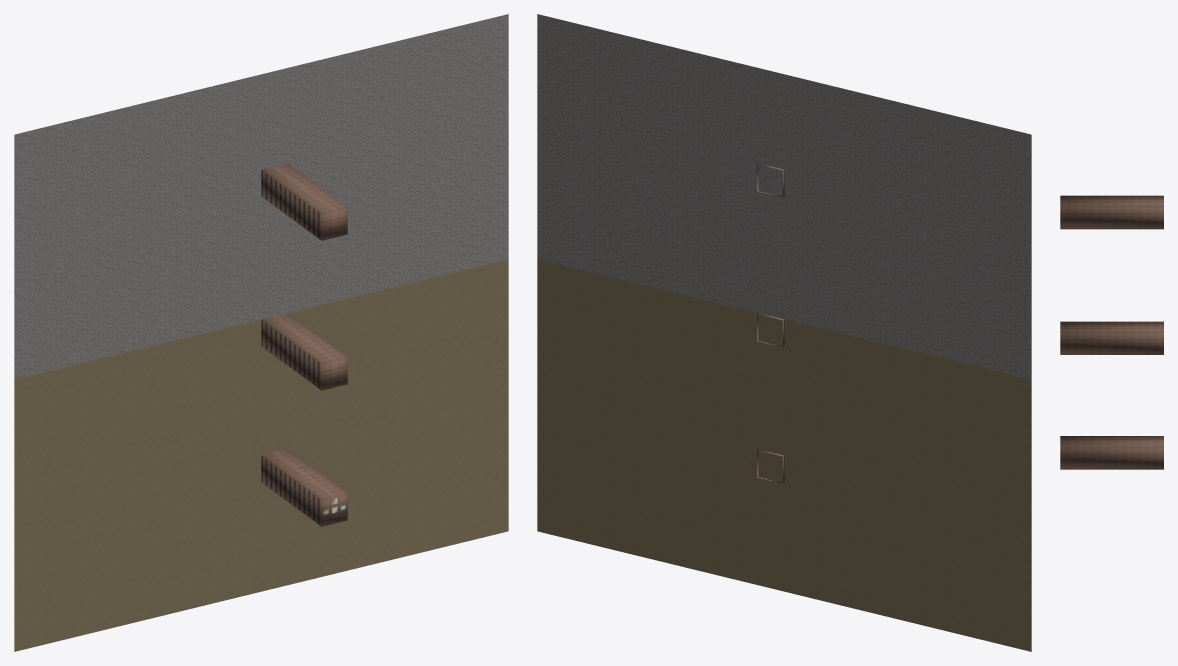
File: stage-staff.fbx
The picture shows the model from 3 angles, left to right: view 1: azimuth 30°, elevation 25°; view 2: azimuth 150°, elevation 25°; view 3: azimuth 270°, elevation 25°; orthographic projection. The views are drawn at different scales.
Parts seen in each view (by area): view 1: Ground_001; view 2: Ground_001; view 3: Ground_001.
Boxes of the visible parts, x1,y1,x2,y2 form: Ground_001: [14, 14, 508, 651]; Ground_001: [537, 14, 1031, 651]; Ground_001: [1060, 195, 1163, 469].
Bounding box in the file's own units: 190 × 190 × 41.1.
Materials: 7 (7 with a texture image).
